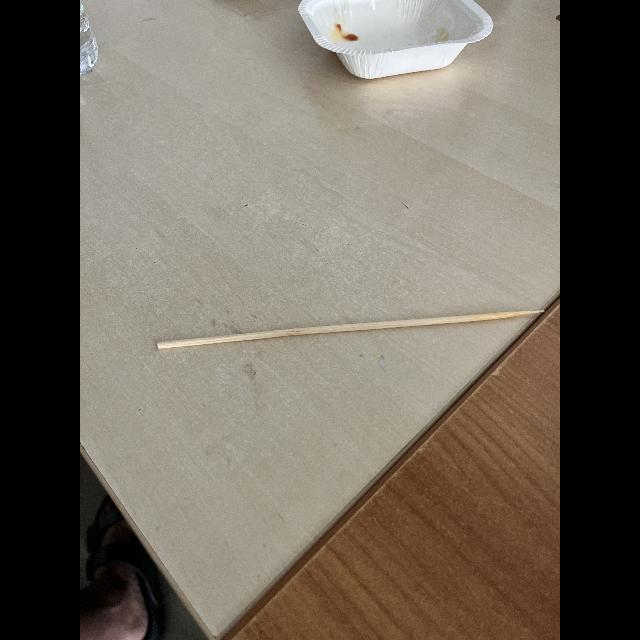cardboard_bowl: (286, 0, 514, 114)
stick: (137, 279, 548, 395)
